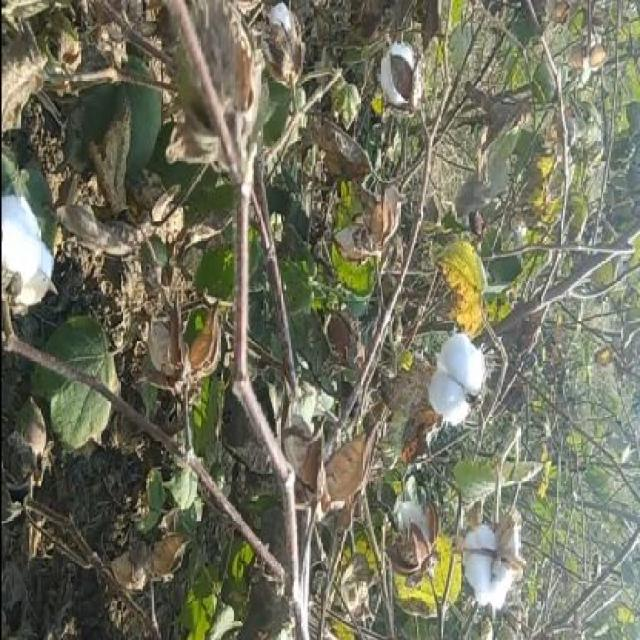cotton_ready: (441, 469, 533, 616), (414, 324, 484, 450), (2, 176, 52, 324), (370, 35, 419, 131)
